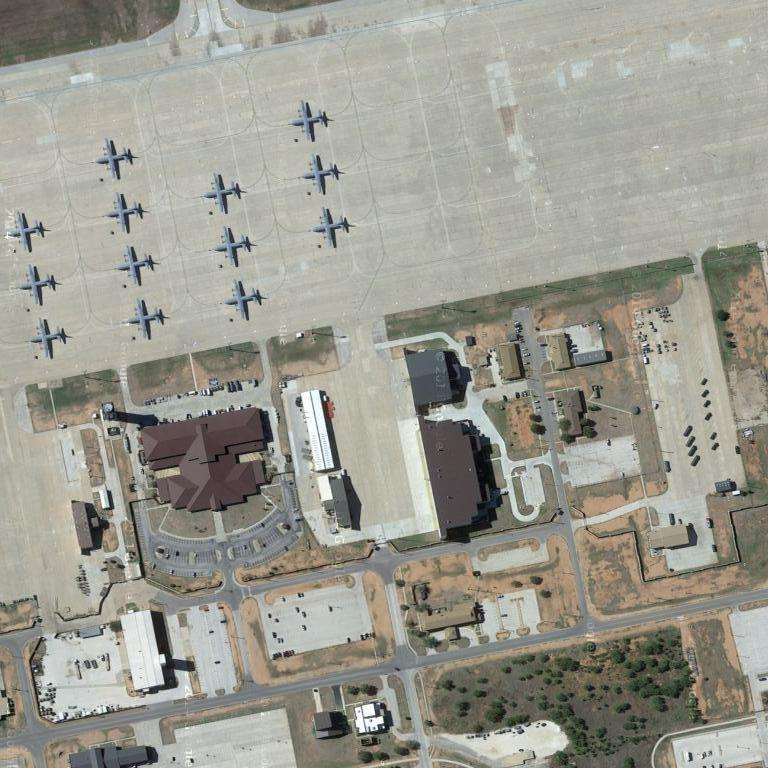C-130: (93, 136, 137, 182), (221, 278, 266, 322), (4, 211, 48, 255), (113, 244, 156, 289), (307, 208, 353, 250), (287, 101, 331, 143), (298, 155, 342, 197), (199, 174, 244, 215), (28, 317, 69, 362), (17, 262, 58, 307), (211, 227, 253, 269), (125, 299, 167, 341), (103, 194, 147, 233)
